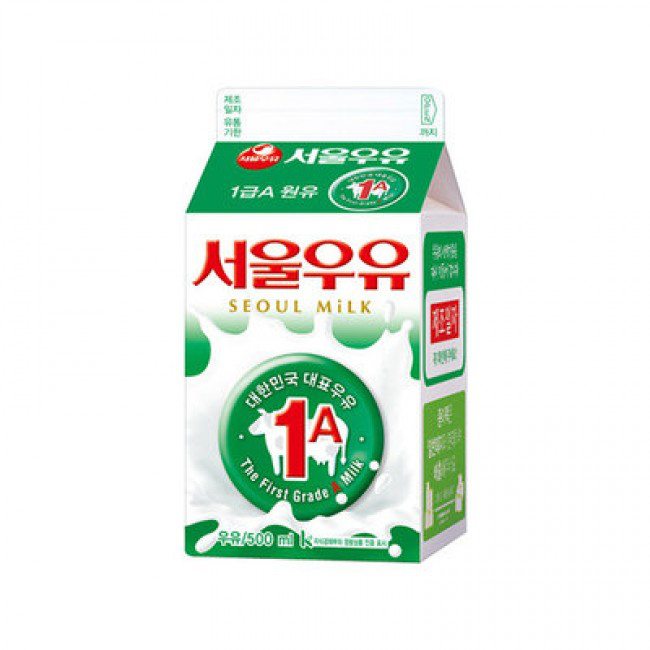milk: (182, 86, 468, 564)
